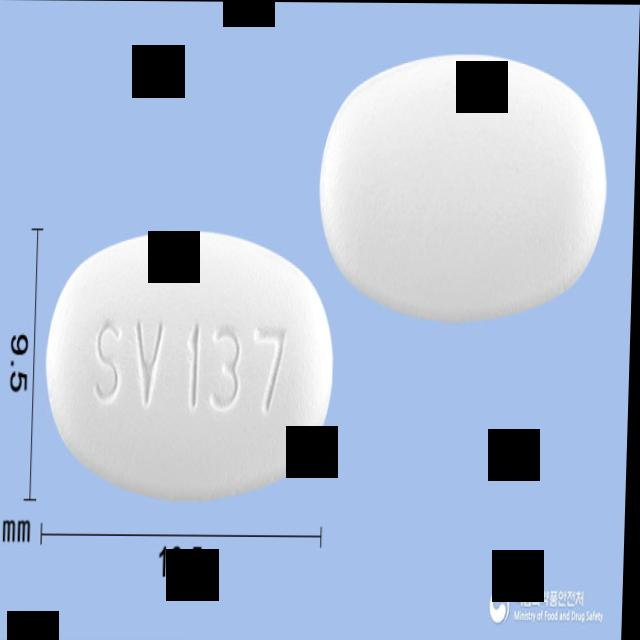Dovato: (317, 51, 613, 323), (46, 228, 339, 502)
